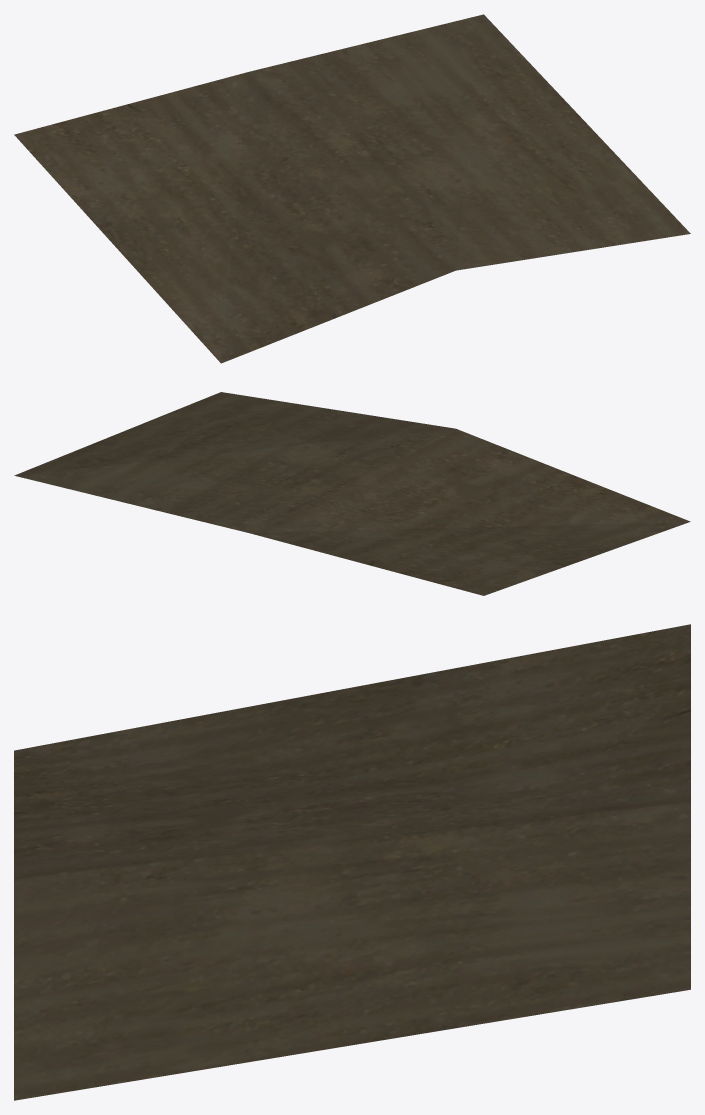
File: blend_path02.fbx
3 renders of one model, top to bottom at view 1: azimuth 30°, elevation 25°; view 2: azimuth 150°, elevation 25°; view 3: azimuth 270°, elevation 25°, orthographic. The views are drawn at different scales.
Visible parts, largest first — view 1: obj0.013; view 2: obj0.013; view 3: obj0.013.
Part boxes in pixels (<box>): obj0.013: <box>14,14,690,363</box>; obj0.013: <box>14,392,690,595</box>; obj0.013: <box>14,624,690,1100</box>.
Size of the model in its own units: 5.36 by 0.9041 by 4.09.
